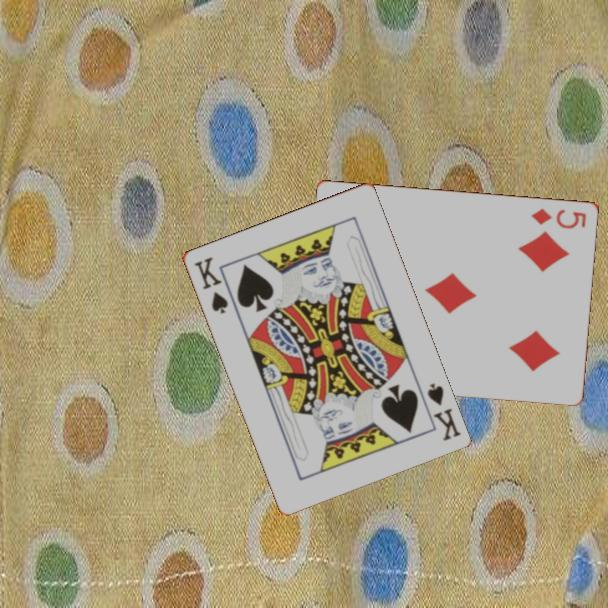d05: (528, 204, 589, 232)
s13: (190, 253, 231, 317), (423, 379, 463, 444)
